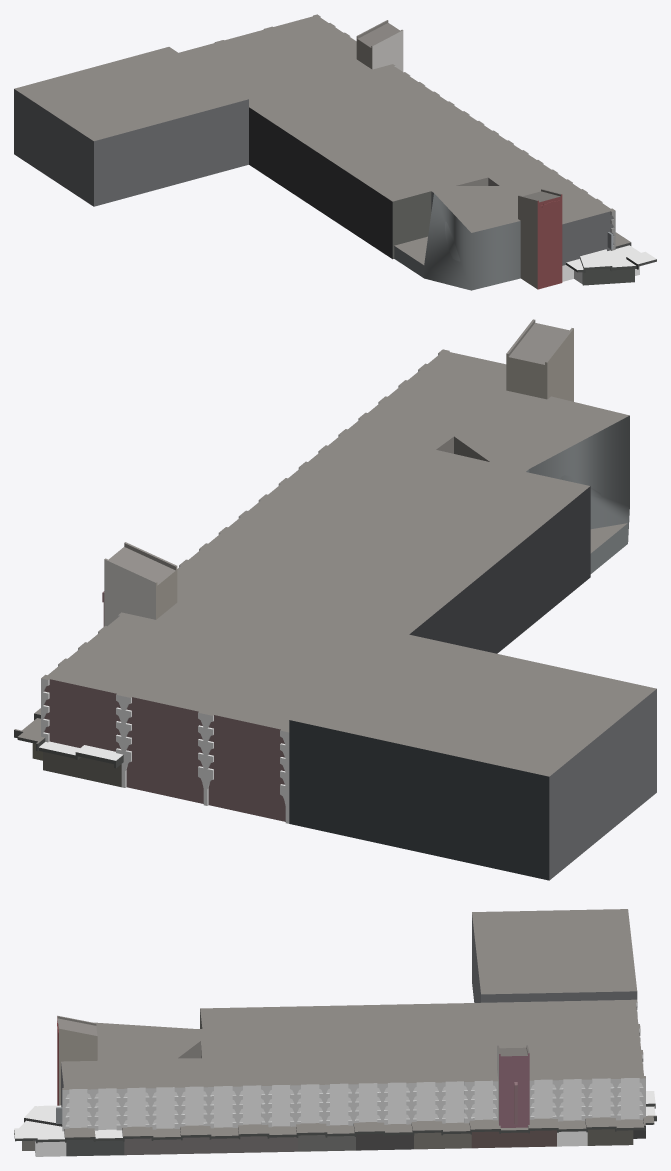
The model's file is citipark-garage.glb.
3 views of the same model, one above another, from view 1: azimuth 30°, elevation 25°; view 2: azimuth 150°, elevation 25°; view 3: azimuth 270°, elevation 25° (orthographic). The views are drawn at different scales.
Parts seen in each view (by area): view 1: Geom3D; view 2: Geom3D; view 3: Geom3D.
Part boxes in pixels (bbox=[...]): Geom3D: bbox=[14, 14, 656, 290]; Geom3D: bbox=[14, 319, 656, 880]; Geom3D: bbox=[14, 909, 656, 1156].
Size of what is drawn, in the model's own units: 79.15 by 18.99 by 118.
Materials: 1 (1 with a texture image).
